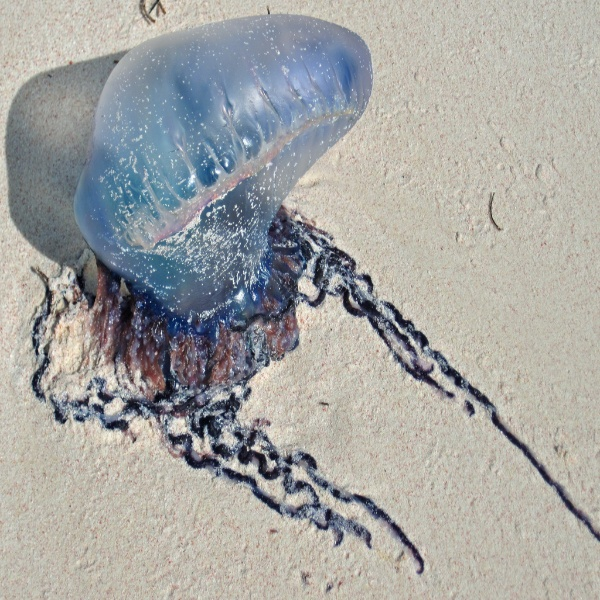Jellyfish: (60, 6, 380, 348)
